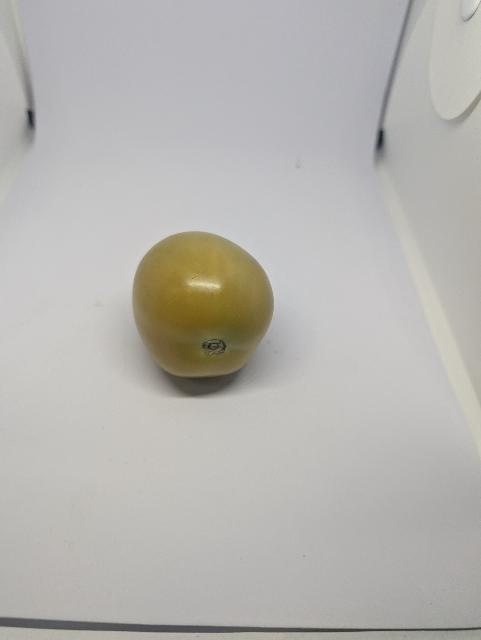breaker: (127, 229, 277, 383)
